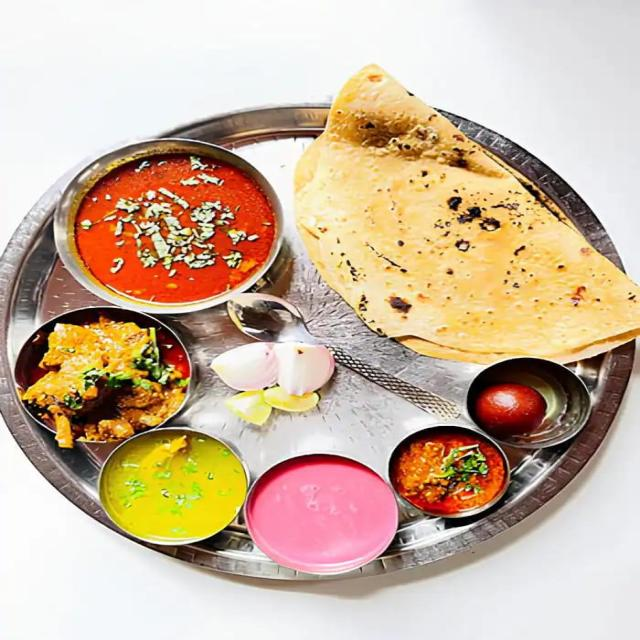dosa: (280, 46, 640, 372)
